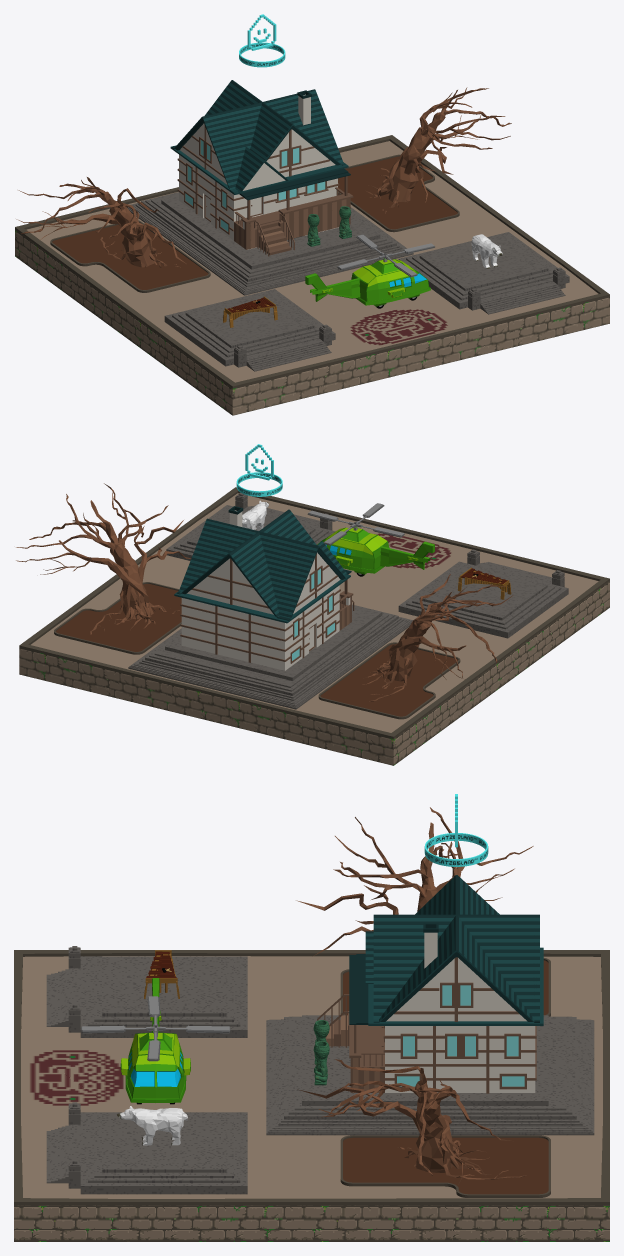
The picture shows the model from 3 angles, top to bottom: view 1: azimuth 30°, elevation 25°; view 2: azimuth 150°, elevation 25°; view 3: azimuth 270°, elevation 25°; orthographic projection. The views are drawn at different scales.
Visible parts, largest first — view 1: Cube.011, Cube.793, VEHICLES_HELICOPTER, TYPE_PREMIUM, OBJRANDOM_MARIMBA, ANIMAL_OSO_POLAR; view 2: Cube.011, Cube.793, VEHICLES_HELICOPTER, TYPE_PREMIUM, OBJRANDOM_MARIMBA, ANIMAL_OSO_POLAR; view 3: Cube.011, Cube.793, VEHICLES_HELICOPTER, ANIMAL_OSO_POLAR, TYPE_PREMIUM, OBJRANDOM_MARIMBA.
Boxes of the visible parts, x1,y1,x2,y2 form: Cube.011: (15, 87, 609, 415); Cube.793: (170, 80, 353, 256); VEHICLES_HELICOPTER: (305, 234, 434, 308); TYPE_PREMIUM: (239, 14, 285, 67); OBJRANDOM_MARIMBA: (223, 296, 277, 327); ANIMAL_OSO_POLAR: (471, 234, 502, 268); Cube.011: (16, 483, 609, 765); Cube.793: (174, 506, 354, 670); VEHICLES_HELICOPTER: (307, 503, 434, 576); TYPE_PREMIUM: (236, 444, 282, 496); OBJRANDOM_MARIMBA: (458, 567, 511, 599); ANIMAL_OSO_POLAR: (242, 500, 268, 530); Cube.011: (14, 807, 609, 1241); Cube.793: (317, 875, 543, 1093); VEHICLES_HELICOPTER: (81, 978, 230, 1104); ANIMAL_OSO_POLAR: (117, 1106, 187, 1145); TYPE_PREMIUM: (424, 794, 488, 866); OBJRANDOM_MARIMBA: (144, 950, 179, 998).
Size of the model in its own units: 5099 by 2417 by 4000.
32 materials, 8 textured.
